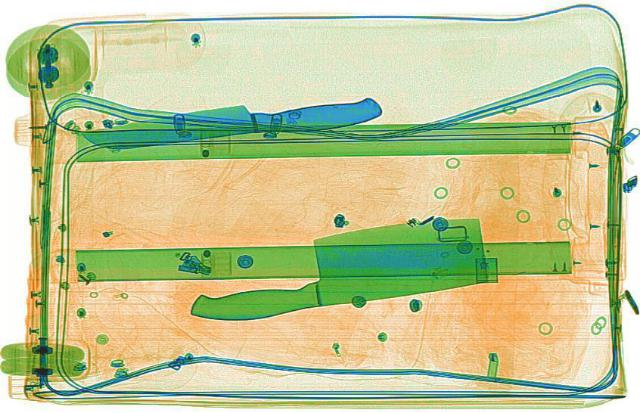Knife: (164, 207, 511, 330), (74, 89, 386, 153)
